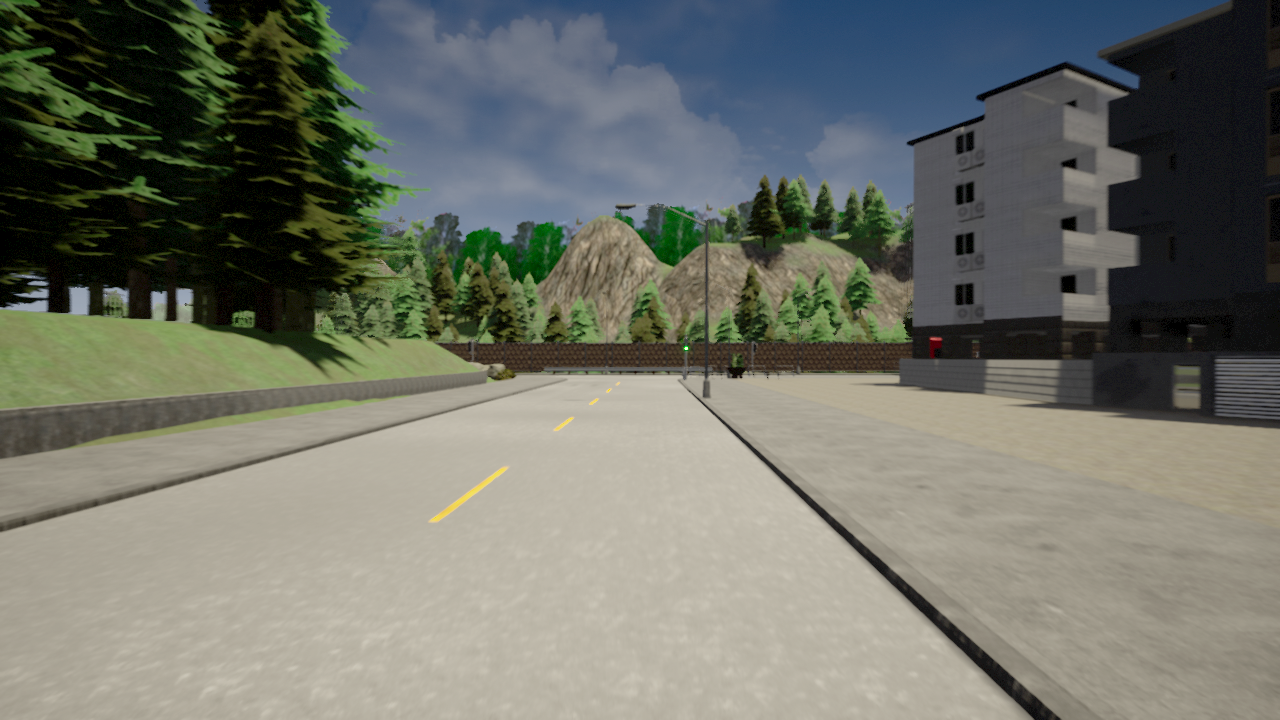green: (683, 337, 689, 352)
